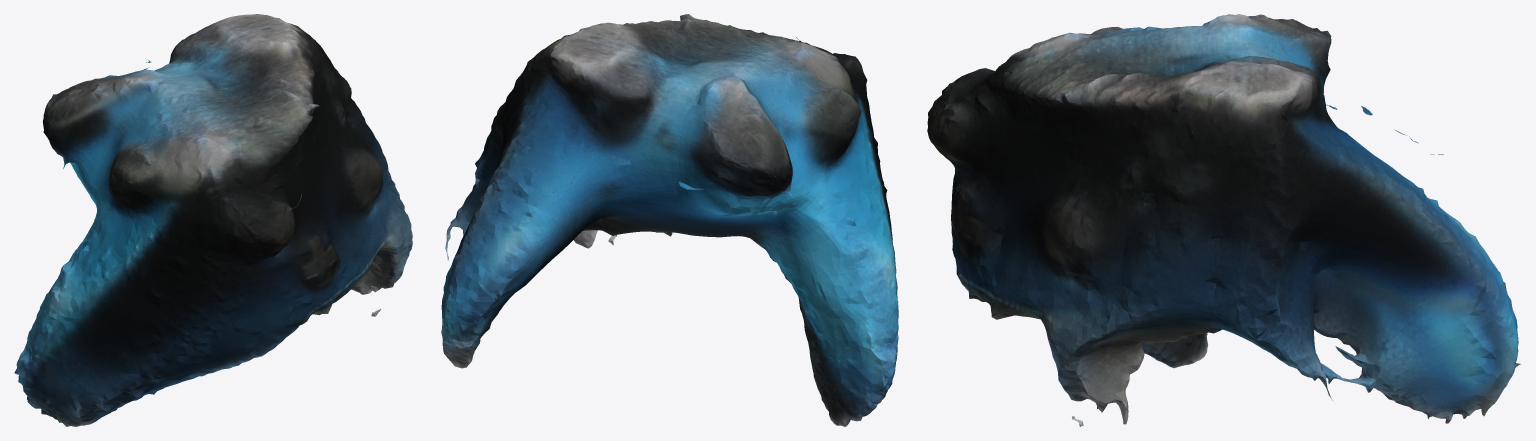
The model's file is IMG_SEG_22.glb.
3 views of the same model, side by side, from view 1: azimuth 30°, elevation 25°; view 2: azimuth 150°, elevation 25°; view 3: azimuth 270°, elevation 25° (orthographic). The views are drawn at different scales.
Size of the model in its own units: 0.9447 by 0.7888 by 1.03.
1 material, 1 textured.
